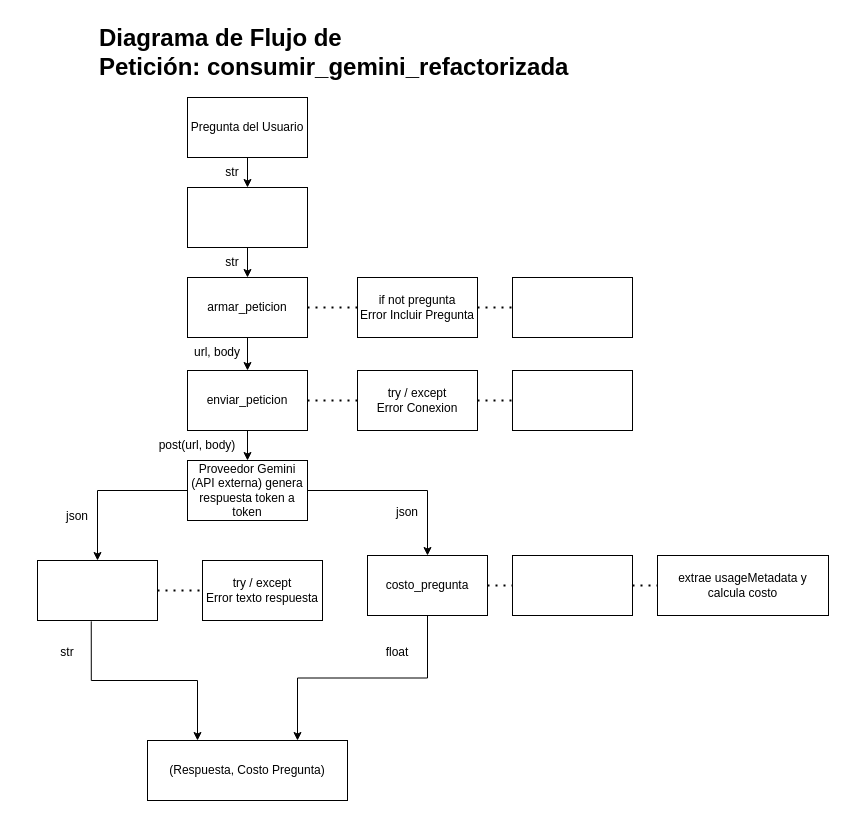
Some shapes in this 846 by 818 pixel diagram are drawn without their labels. The centre of each missing label's shape, as x and y in pixels:
"extraer_texto" goes at (97,590).
"Lee GEMINI_API_KEY de .env" goes at (572,307).
"obtener_dato_prueba" goes at (247,217).
"try / except Error conteo tokens" goes at (572,585).
"try / except Error Formato" goes at (572,400).
